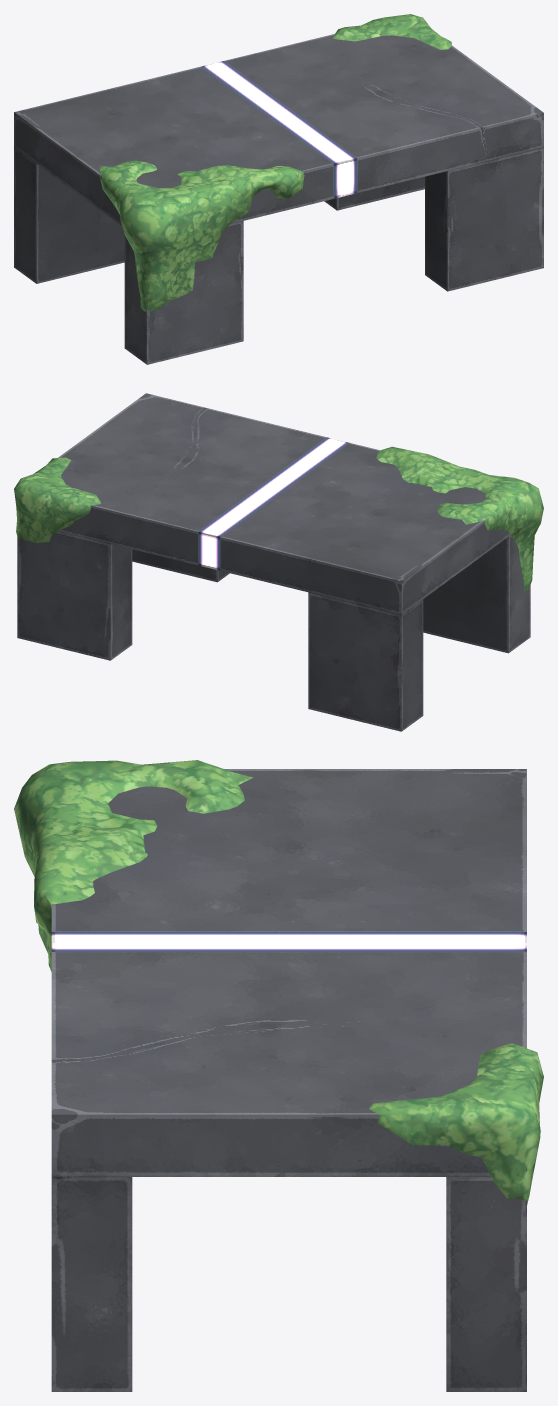
Rendered from Rune_4.fbx.
3 views of the same model, one above another, from view 1: azimuth 30°, elevation 25°; view 2: azimuth 150°, elevation 25°; view 3: azimuth 270°, elevation 25° (orthographic). The views are drawn at different scales.
Parts seen in each view (by area): view 1: rune 4 low, rune 4 moss low; view 2: rune 4 low, rune 4 moss low; view 3: rune 4 low, rune 4 moss low.
Part boxes in pixels (left/top/right/bottom): rune 4 low: left=14, top=34, right=543, bottom=364; rune 4 moss low: left=99, top=14, right=451, bottom=311; rune 4 low: left=17, top=393, right=530, bottom=731; rune 4 moss low: left=14, top=446, right=543, bottom=590; rune 4 low: left=51, top=769, right=526, bottom=1391; rune 4 moss low: left=14, top=760, right=543, bottom=1204.
Bounding box in the file's own units: 84.47 × 31.7 × 51.98.
Materials: 2 (2 with a texture image).
